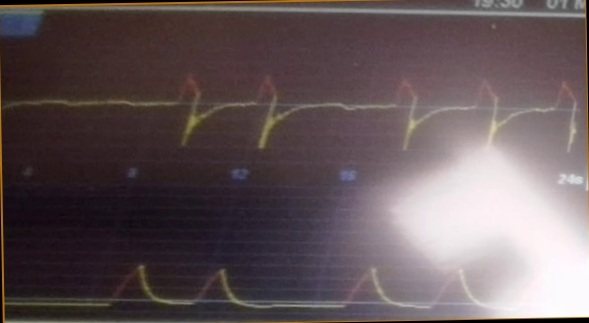Accumulation Flow: (13, 56, 580, 158)
Volume: (26, 245, 508, 315)
